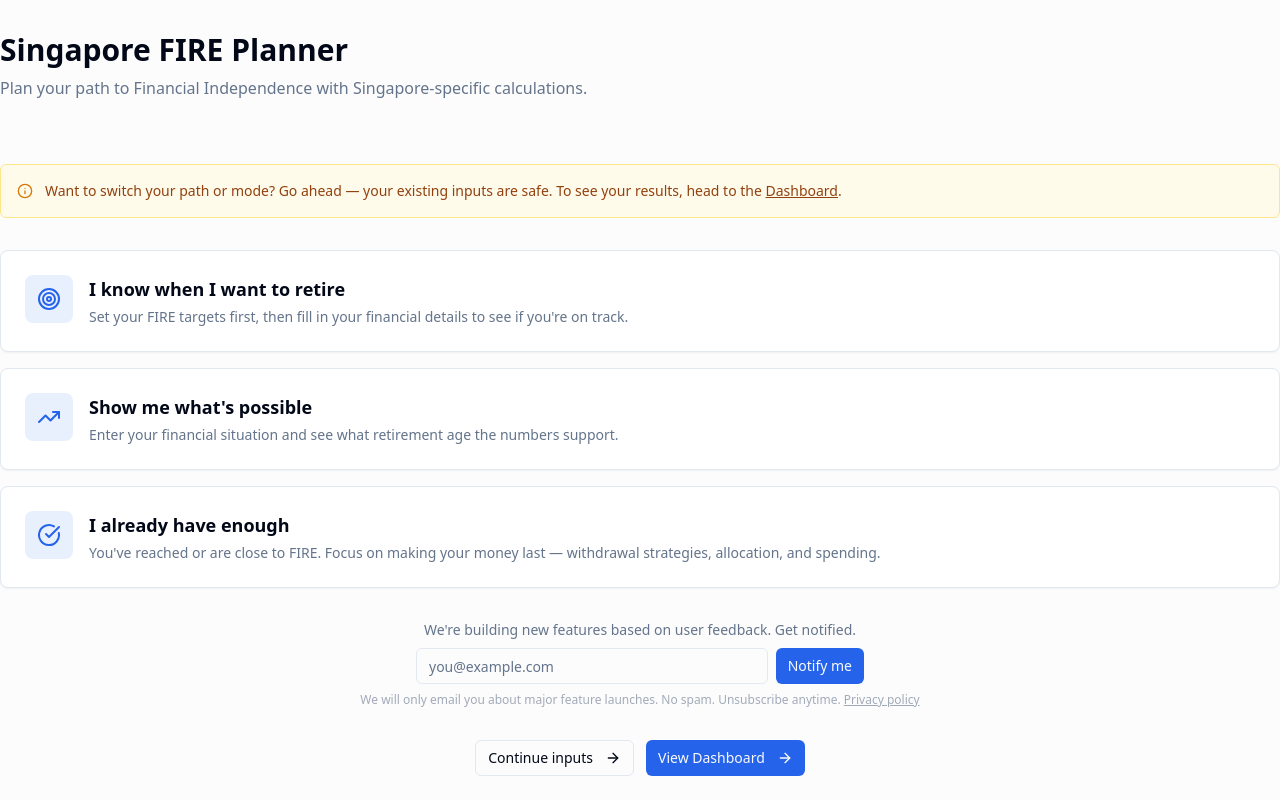
Test: StartPage › shows healthcare toggle only when CPF is enabled
Step 1. Click the text "I know when I want to retire" → click(217, 289), box left=89, top=277, right=345, bottom=301
(page scrolled)
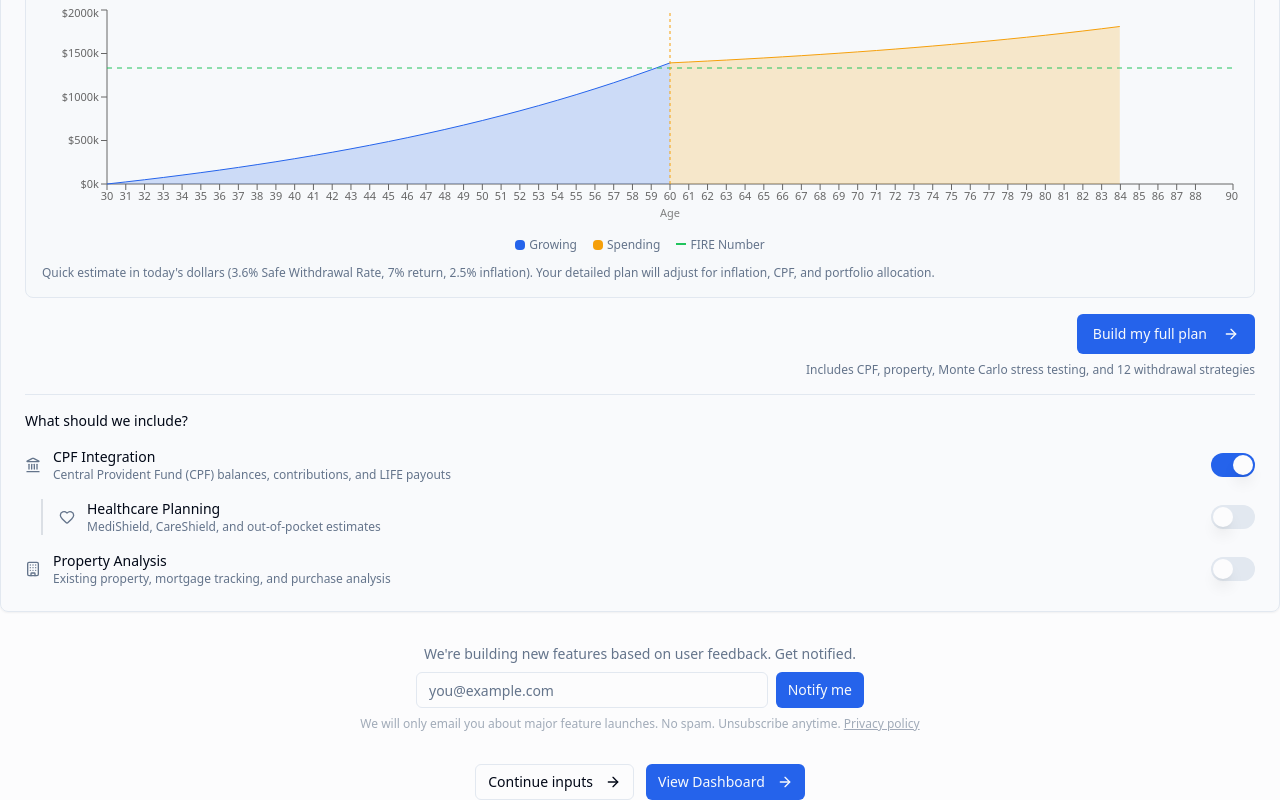
Expected: the text "Healthcare Planning" is shown, left=87, top=499, right=220, bottom=518
